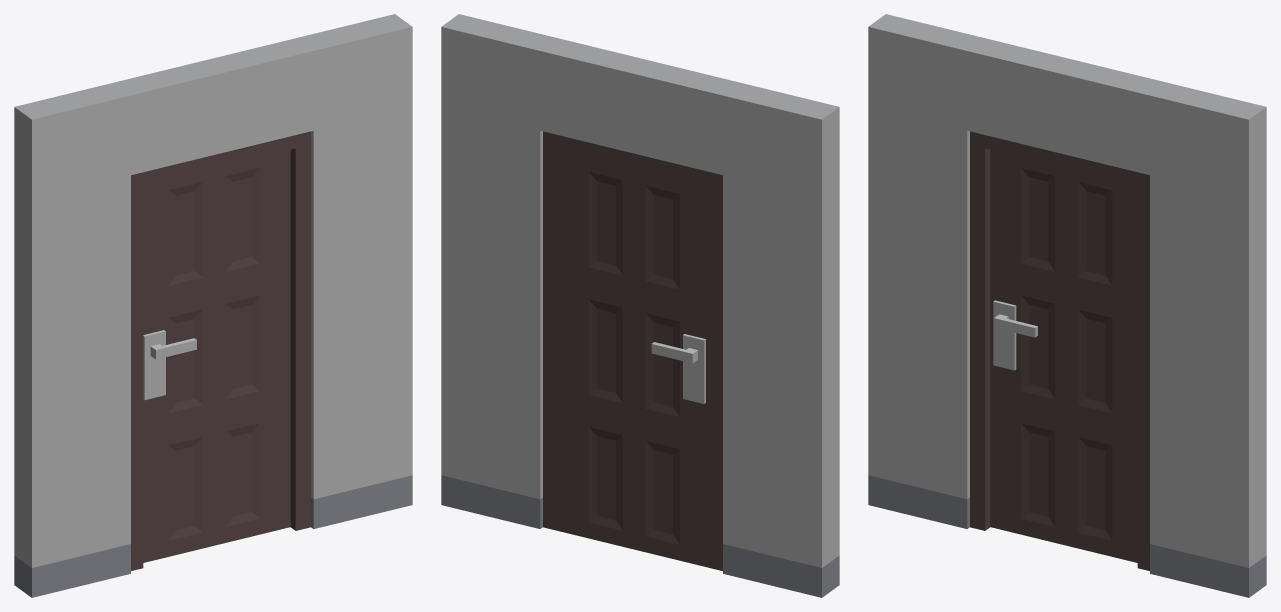
Rendered from Wall_Door.fbx.
3 renders of one model, left to right at view 1: azimuth 30°, elevation 25°; view 2: azimuth 150°, elevation 25°; view 3: azimuth 330°, elevation 25°, orthographic.
Visible parts, largest first — view 1: Wall_Door, Door; view 2: Wall_Door, Door; view 3: Wall_Door, Door.
Part boxes in pixels (<box>): Wall_Door: <box>14,14,412,597</box>; Door: <box>143,150,290,562</box>; Wall_Door: <box>441,14,839,597</box>; Door: <box>558,148,710,567</box>; Wall_Door: <box>868,14,1266,597</box>; Door: <box>990,150,1137,562</box>.
Size of the model in its own units: 2.5 by 3 by 0.25.
